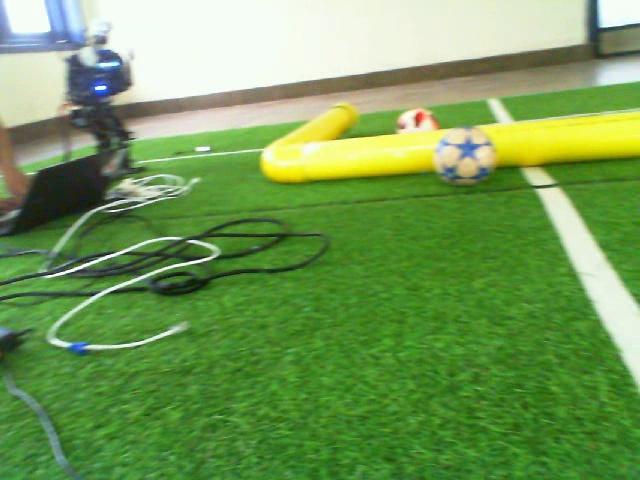ball: (433, 124, 500, 187), (393, 105, 433, 136)
